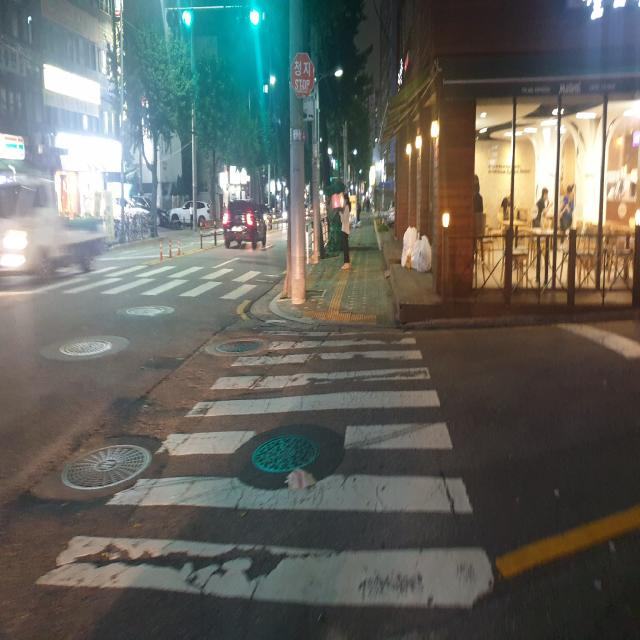횡단보도: (31, 314, 498, 614), (47, 256, 276, 310)
